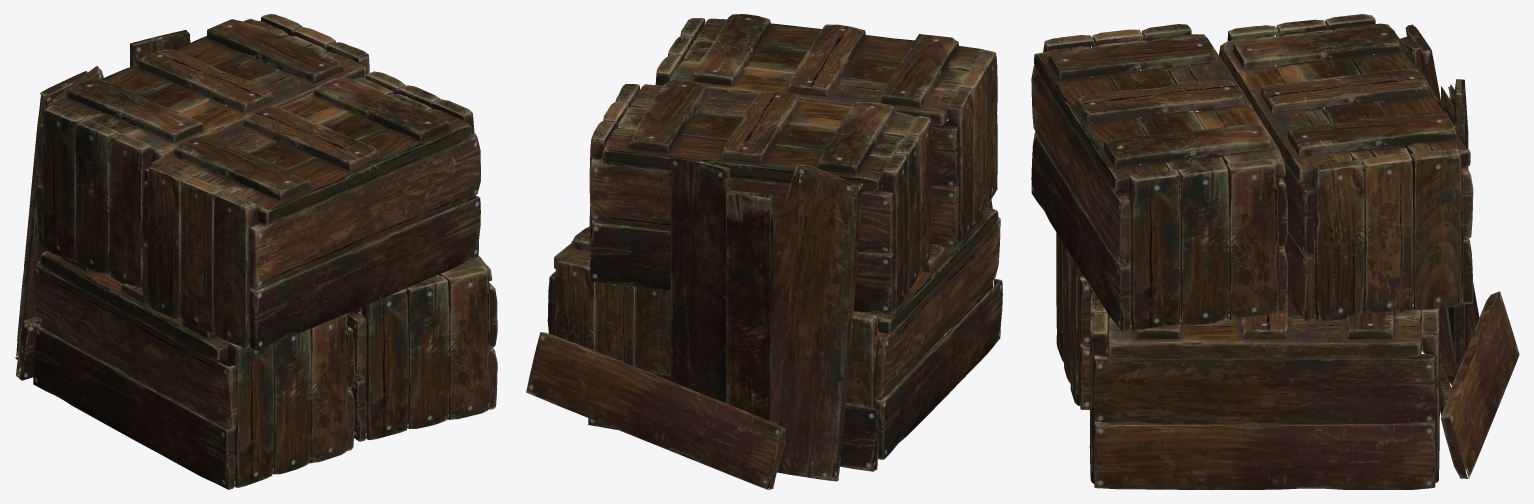
3 renders of one model, left to right at view 1: azimuth 30°, elevation 25°; view 2: azimuth 150°, elevation 25°; view 3: azimuth 270°, elevation 25°, orthographic. The views are drawn at different scales.
Visible parts, largest first — view 1: SM_Garou_Crate_04_LOD0; view 2: SM_Garou_Crate_04_LOD0; view 3: SM_Garou_Crate_04_LOD0.
Boxes of the visible parts, x1,y1,x2,y2 form: SM_Garou_Crate_04_LOD0: (15,14,497,489); SM_Garou_Crate_04_LOD0: (526,14,1002,489); SM_Garou_Crate_04_LOD0: (1031,14,1519,489).
Bounding box in the file's own units: 1.71 × 1.46 × 2.01.
1 material, 1 textured.
